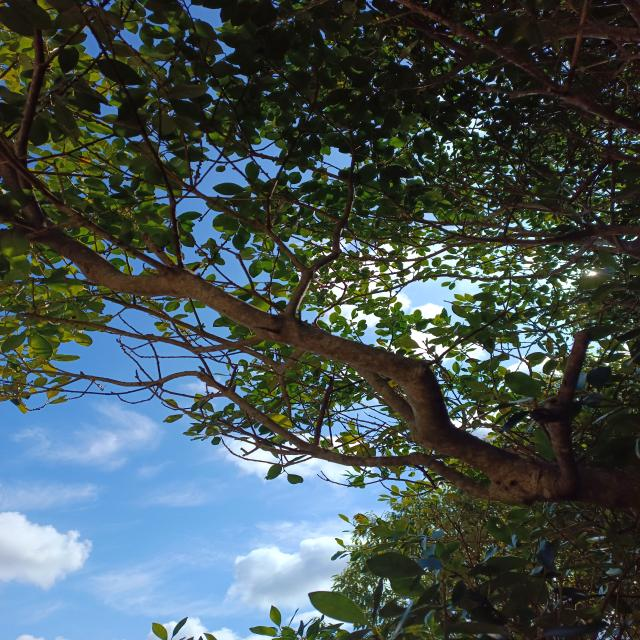Branch: (35, 219, 535, 483), (533, 328, 593, 493)
Twig: (31, 369, 487, 498), (158, 163, 313, 319), (11, 160, 169, 267), (315, 131, 358, 271), (14, 23, 48, 191), (222, 433, 307, 454), (315, 375, 336, 444)
